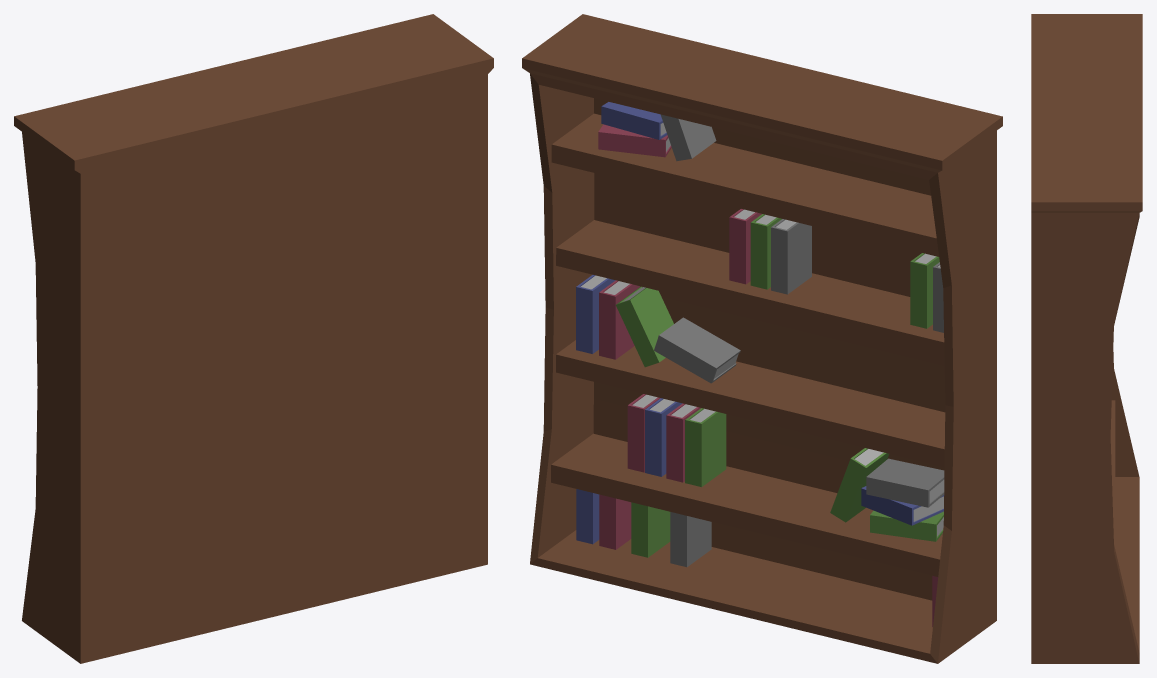
The model's file is Bookshelf.fbx.
The picture shows the model from 3 angles, left to right: view 1: azimuth 30°, elevation 25°; view 2: azimuth 150°, elevation 25°; view 3: azimuth 270°, elevation 25°; orthographic projection. The views are drawn at different scales.
Parts seen in each view (by area): view 1: Bookshelf; view 2: Bookshelf; view 3: Bookshelf.
Part boxes in pixels (<box>): Bookshelf: <box>14,14,493,663</box>; Bookshelf: <box>522,14,1002,663</box>; Bookshelf: <box>1031,14,1142,663</box>.
Bounding box in the file's own units: 206 × 237 × 51.46.
